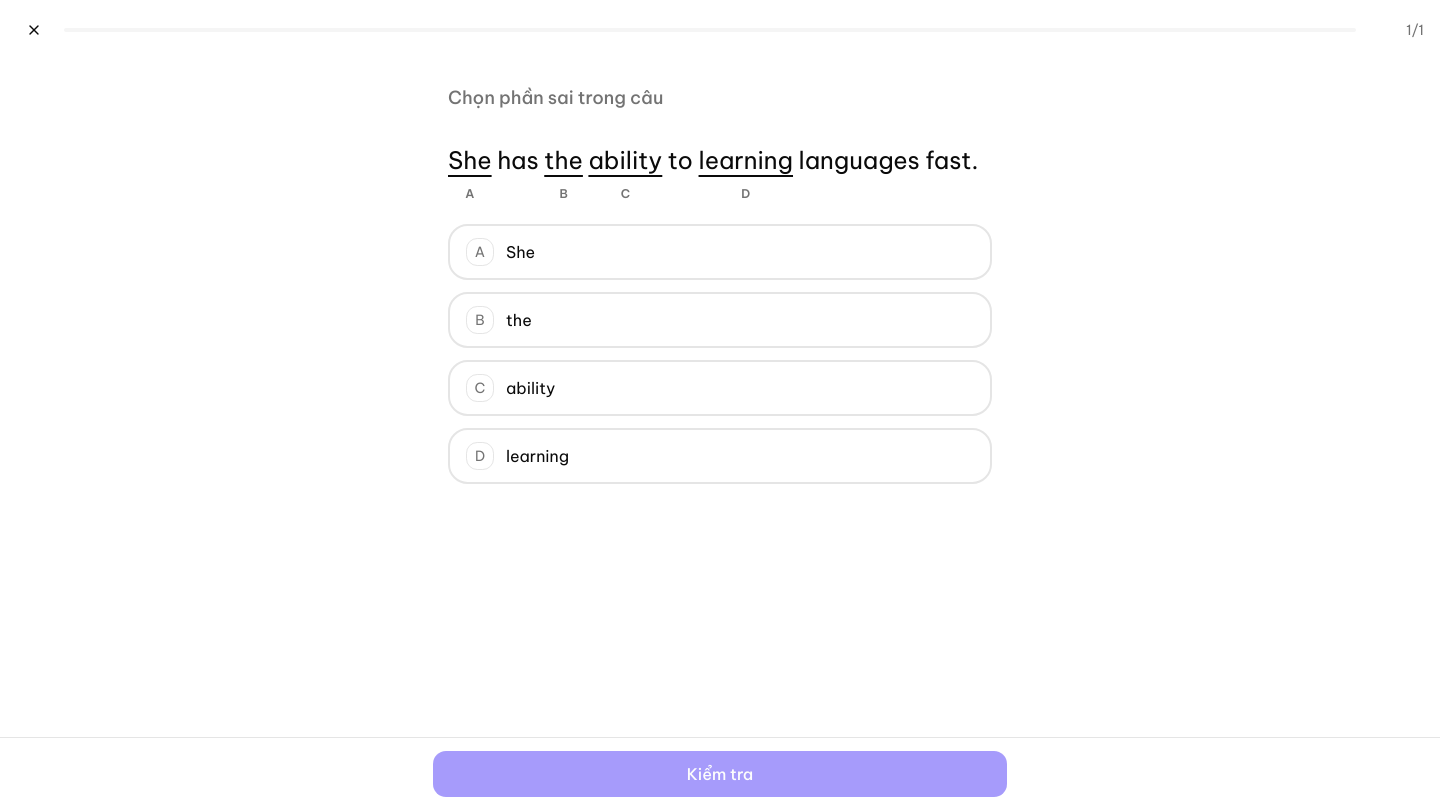
Scenario: find the error (feature 011) › explains the error and its replacement after a right pick (AC-005, AC-006)
This screenshot has width=1440, height=810.
Press D
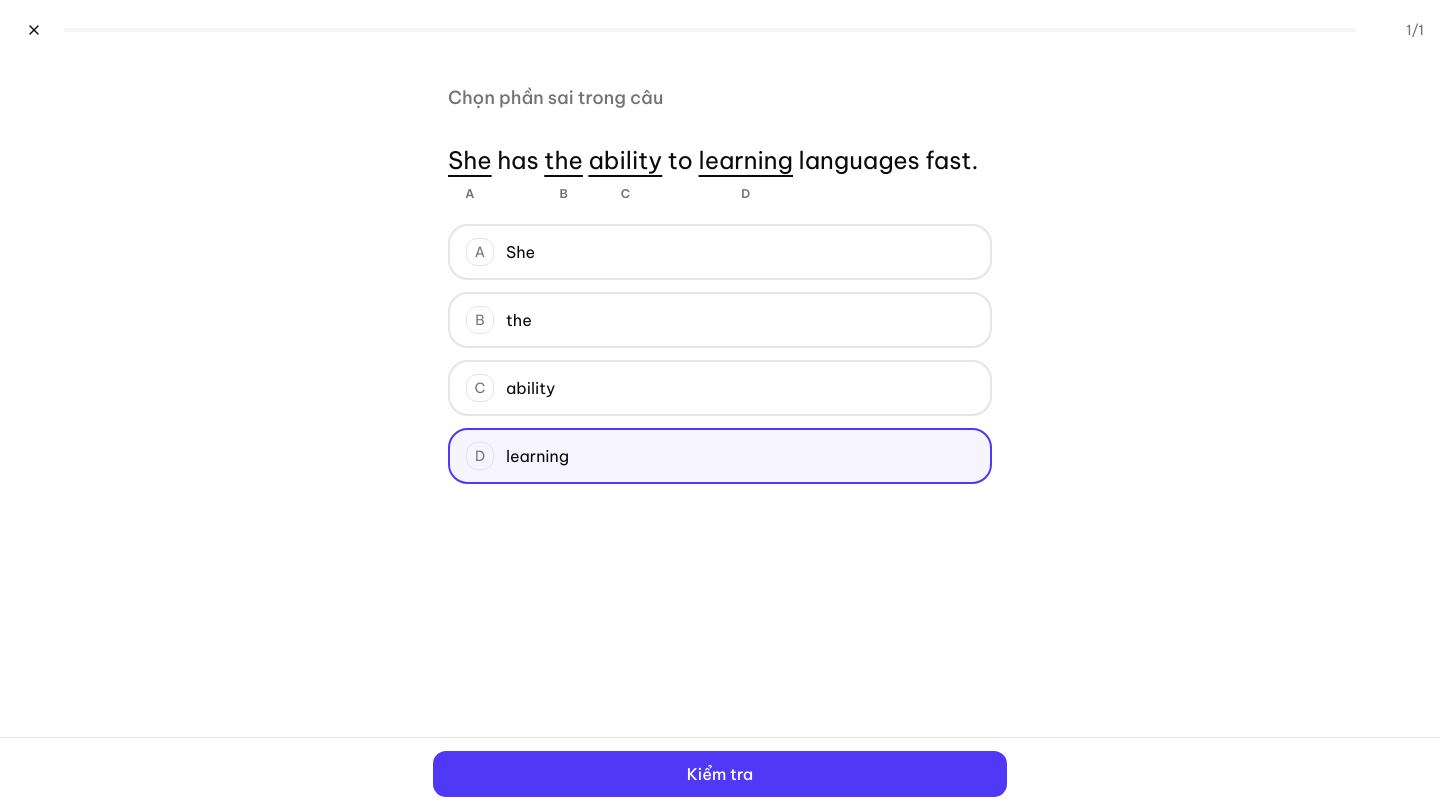
Click the button "Kiểm tra". click: click(720, 774)
box: [432,750,1008,798]
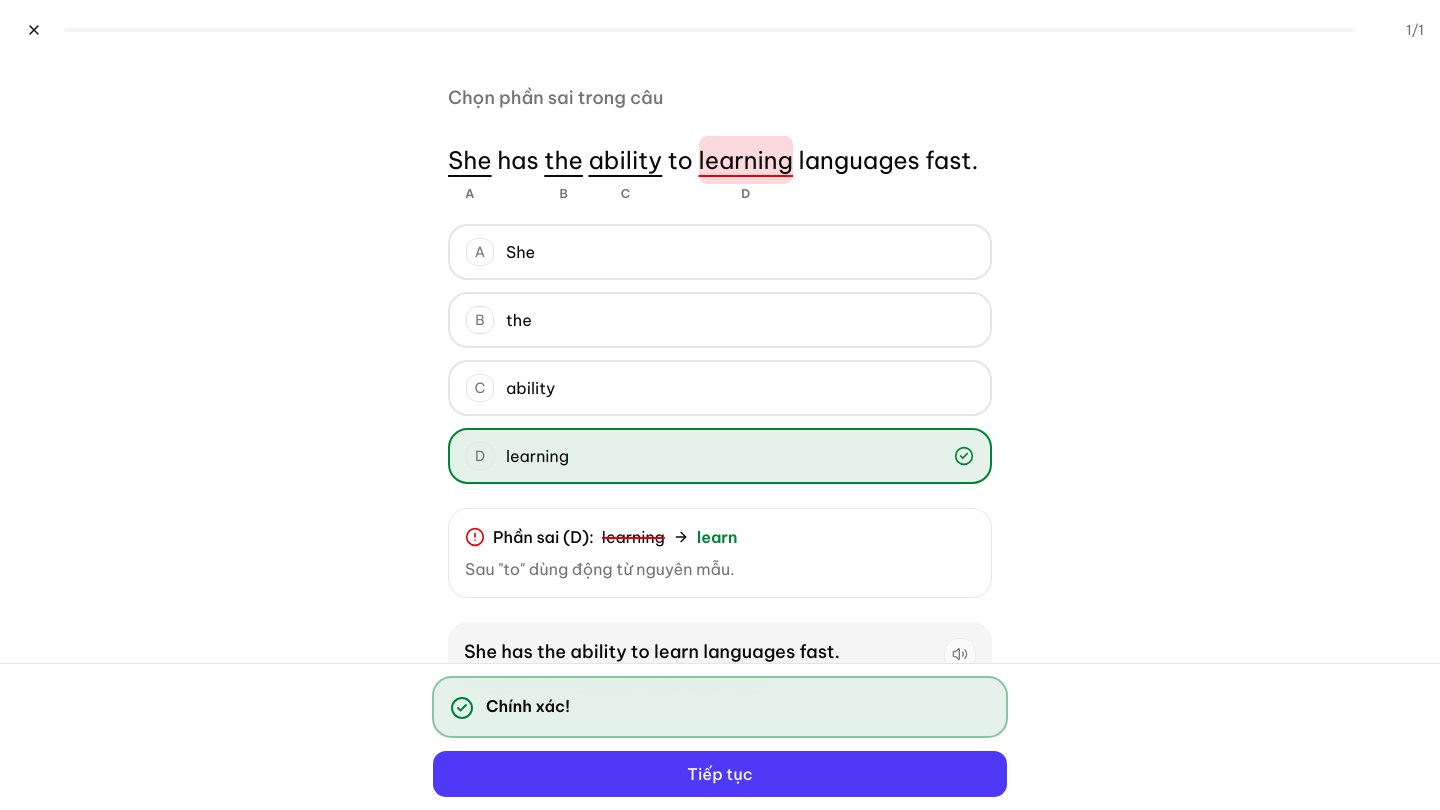
Expected: the element named "Giải thích lỗi sai" shows "learning", [602,527,665,547]
Expected: the element named "Giải thích lỗi sai" shows "learn", [697,527,737,547]
Expected: the element named "Giải thích lỗi sai" shows "Sau \"to\" dùng động từ nguyên mẫu.", [465,559,735,579]
